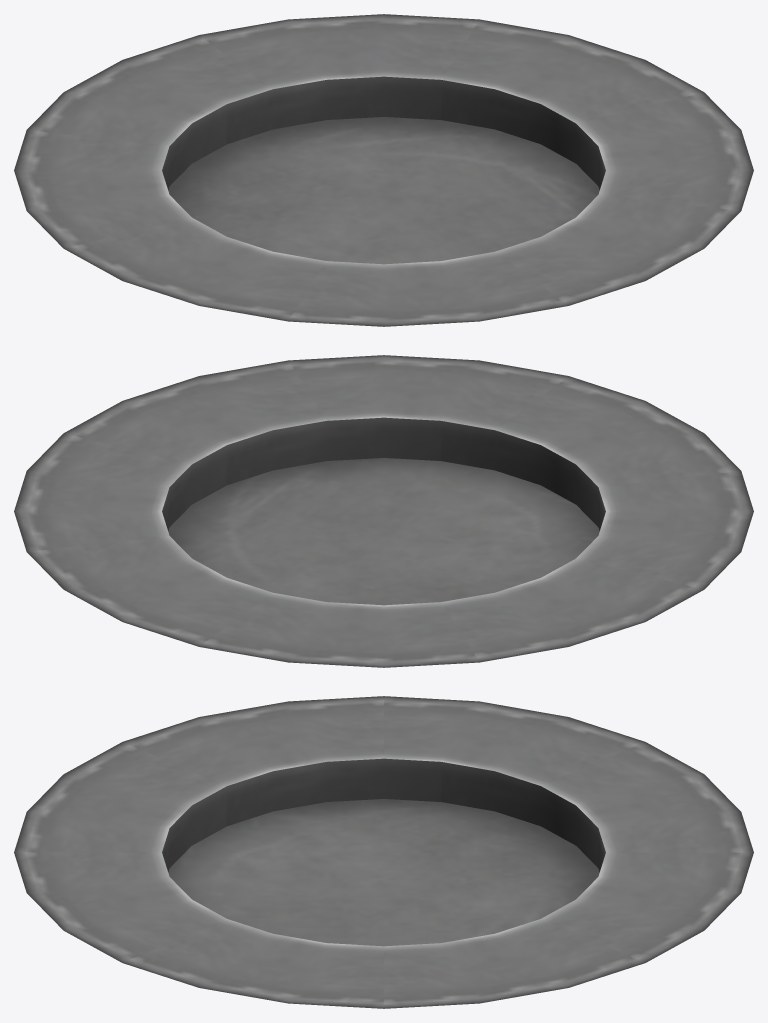
File: end_probe_s0.obj
3 views of the same model, one above another, from view 1: azimuth 30°, elevation 25°; view 2: azimuth 150°, elevation 25°; view 3: azimuth 270°, elevation 25° (orthographic).
Visible parts, largest first — view 1: mesh1; view 2: mesh1; view 3: mesh1.
Boxes of the visible parts, <box> form: mesh1: <box>14,14,753,326</box>; mesh1: <box>14,355,753,667</box>; mesh1: <box>14,696,753,1008</box>.
Size of the model in its own units: 0.625 by 0.0375 by 0.625.
Materials: 1 (1 with a texture image).
